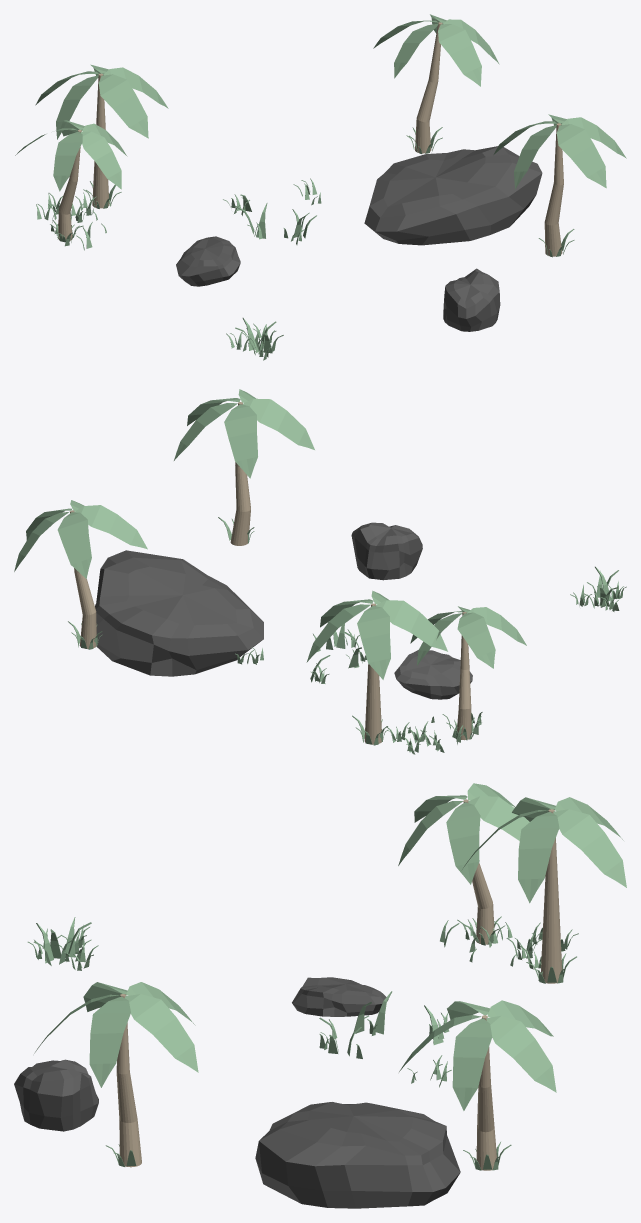
File: SandFoliage_03.FBX
3 views of the same model, one above another, from view 1: azimuth 30°, elevation 25°; view 2: azimuth 150°, elevation 25°; view 3: azimuth 270°, elevation 25° (orthographic). The views are drawn at different scales.
Visible parts, largest first — view 1: Object005; view 2: Object005; view 3: Object005.
Boxes of the visible parts, x1=… form: Object005: x1=15, y1=14, x2=626, y2=360; Object005: x1=14, y1=389, x2=626, y2=754; Object005: x1=14, y1=783, x2=626, y2=1208.
Bounding box in the file's own units: 398 × 133 × 351.
